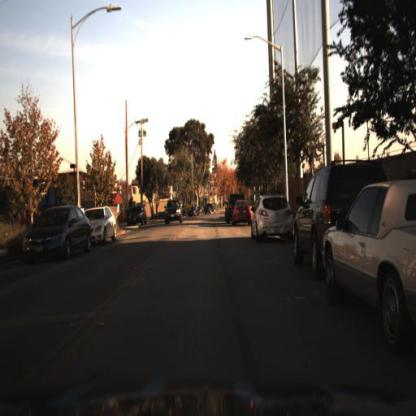car: (323, 181, 416, 355), (291, 154, 388, 276), (16, 198, 99, 275), (23, 206, 92, 265), (289, 164, 323, 276), (252, 186, 295, 243), (97, 201, 120, 249), (126, 194, 151, 230), (161, 195, 186, 229), (232, 197, 254, 233), (164, 197, 186, 224), (224, 198, 235, 222)
